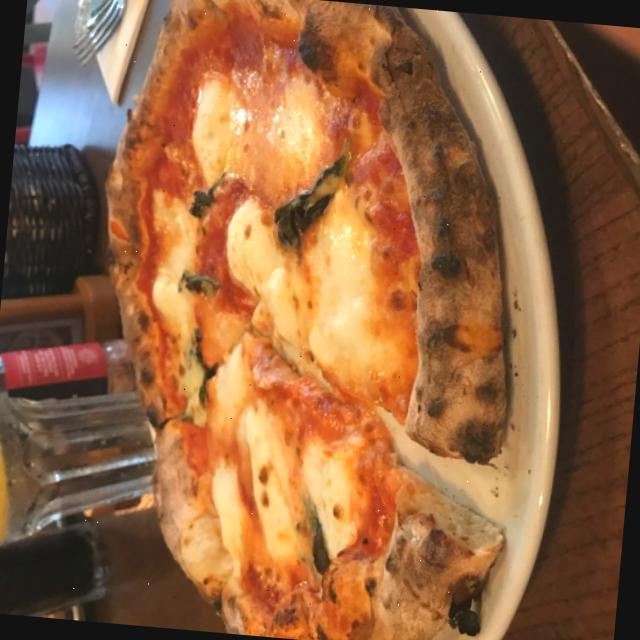basil: (276, 148, 348, 262), (295, 503, 334, 577), (186, 168, 227, 224), (186, 335, 220, 401), (174, 266, 228, 298)
cheese: (296, 208, 392, 387), (218, 206, 307, 344), (234, 418, 301, 548), (144, 194, 202, 332), (185, 82, 250, 184), (202, 467, 261, 572), (314, 441, 366, 554), (266, 75, 318, 178), (218, 348, 248, 412)
pizza: (107, 0, 506, 640)
